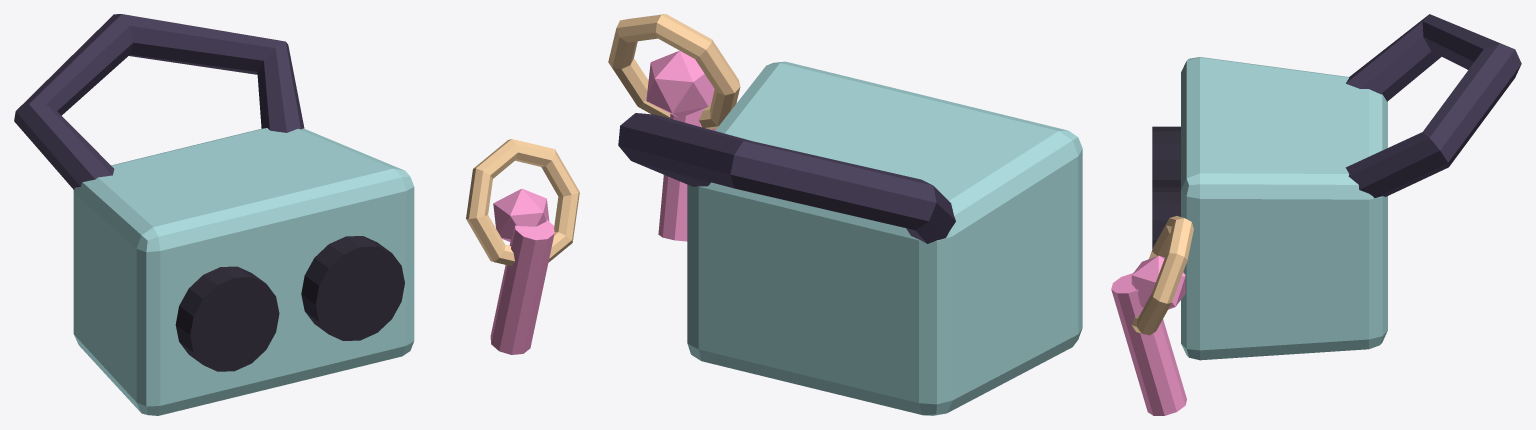
Rendered from hotspot_xr_vrheadset.glb.
3 renders of one model, left to right at view 1: azimuth 30°, elevation 25°; view 2: azimuth 150°, elevation 25°; view 3: azimuth 270°, elevation 25°, orthographic. The views are drawn at different scales.
Parts seen in each view (by area): view 1: hotspot_xr_vrheadset; view 2: hotspot_xr_vrheadset; view 3: hotspot_xr_vrheadset.
Part boxes in pixels (x1,y1,x2,y2): hotspot_xr_vrheadset: (14,14,579,415); hotspot_xr_vrheadset: (608,14,1082,415); hotspot_xr_vrheadset: (1111,14,1521,415).
Bounding box in the file's own units: 0.3029 × 0.1808 × 0.2578.
